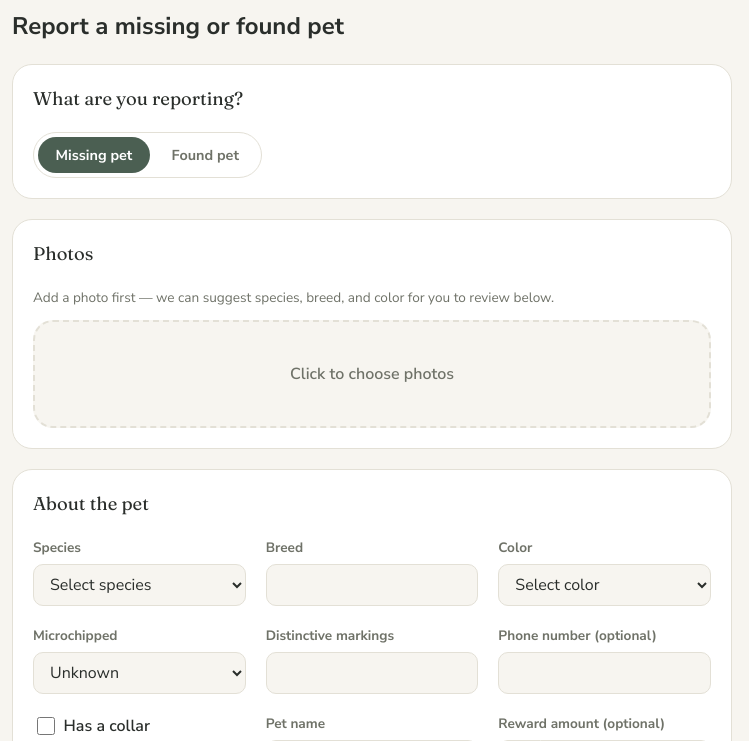
Scenario: color is a dropdown of common colors, with an Other free-text fallback
Select "Other" in the dropdown labelled "Color" at (605, 585), box x1=498 y1=564 x2=711 y2=606
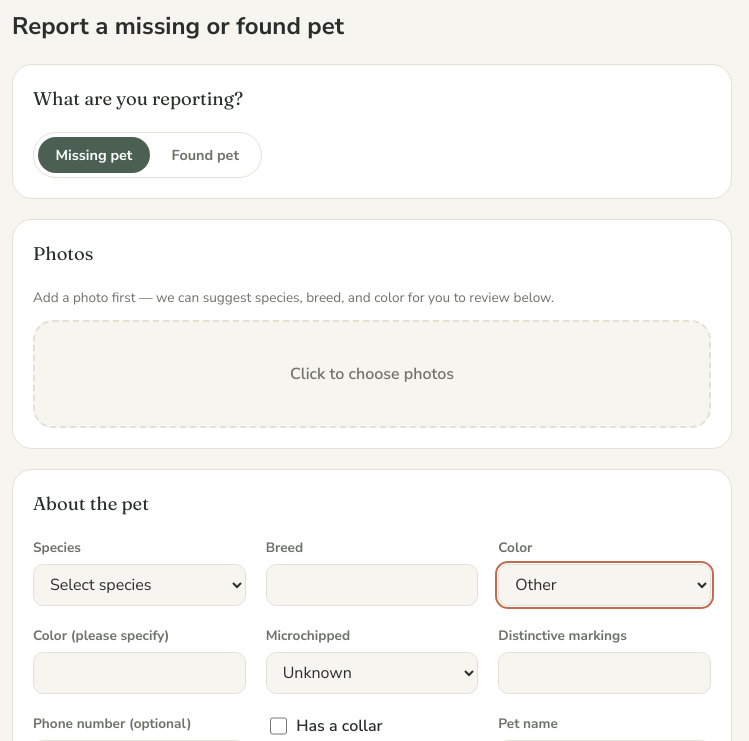
Expected: the field labelled "Color (please specify)" is shown, x1=33 y1=652 x2=246 y2=694
